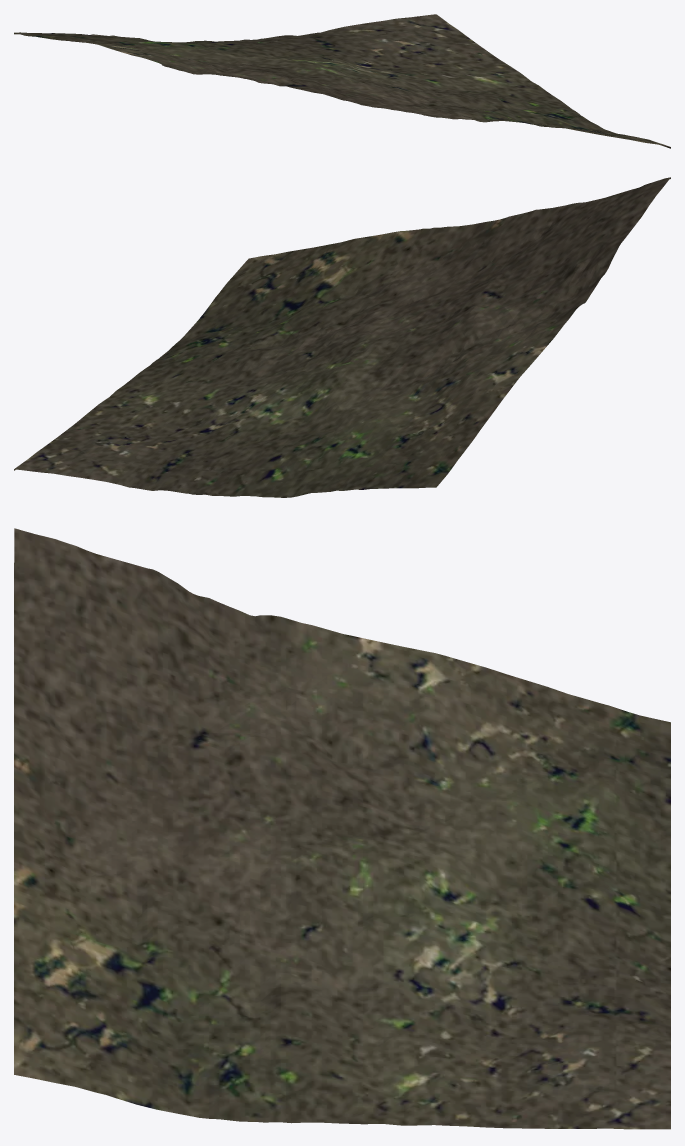
3 renders of one model, top to bottom at view 1: azimuth 30°, elevation 25°; view 2: azimuth 150°, elevation 25°; view 3: azimuth 270°, elevation 25°, orthographic. The views are drawn at different scales.
Size of the model in its own units: 250 by 127 by 241.
1 material, 1 textured.
